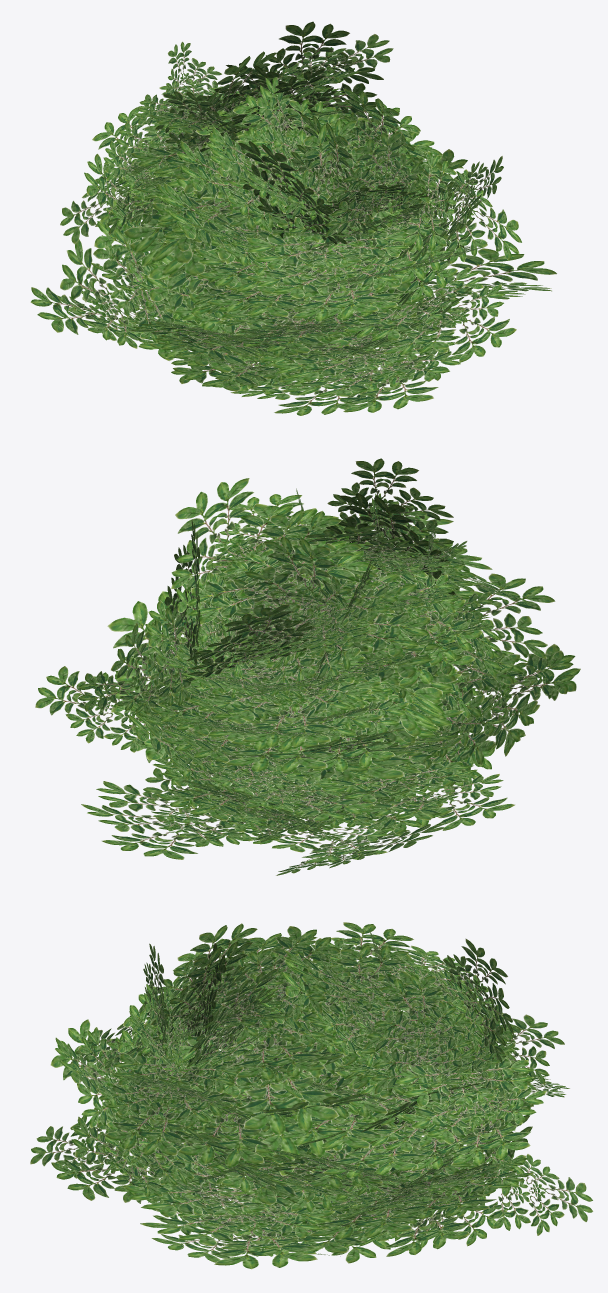
File: buisson_2_1.FBX
3 renders of one model, top to bottom at view 1: azimuth 30°, elevation 25°; view 2: azimuth 150°, elevation 25°; view 3: azimuth 270°, elevation 25°, orthographic.
Visible parts, largest first — view 1: Plane1755; view 2: Plane1755; view 3: Plane1755.
Boxes of the visible parts, x1,y1,x2,y2 form: Plane1755: [30, 21, 556, 415]; Plane1755: [35, 458, 580, 875]; Plane1755: [30, 922, 593, 1269].
Bounding box in the file's own units: 266 × 178 × 283.
1 material, 1 textured.
